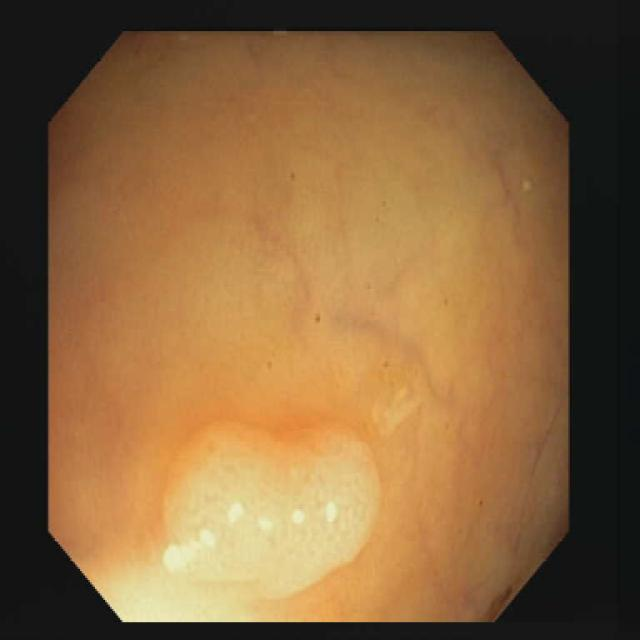tumor: (153, 422, 378, 596)
